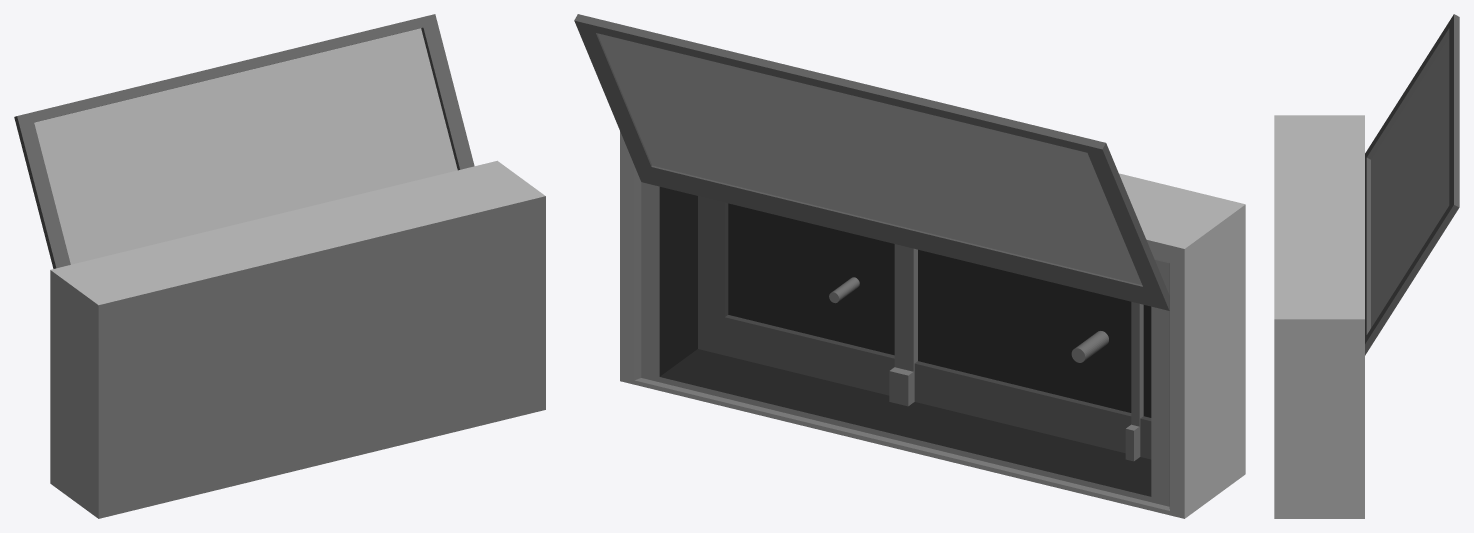
Rendered from GunCaseModel.fbx.
The picture shows the model from 3 angles, left to right: view 1: azimuth 30°, elevation 25°; view 2: azimuth 150°, elevation 25°; view 3: azimuth 270°, elevation 25°; orthographic projection. The views are drawn at different scales.
Parts seen in each view (by area): view 1: GunCaseModel; view 2: GunCaseModel; view 3: GunCaseModel.
Part boxes in pixels (x1,y1,x2,y2): GunCaseModel: (14, 14, 545, 518); GunCaseModel: (574, 14, 1245, 518); GunCaseModel: (1274, 14, 1459, 518).
Size of the model in its own units: 184 by 129 by 70.46.
